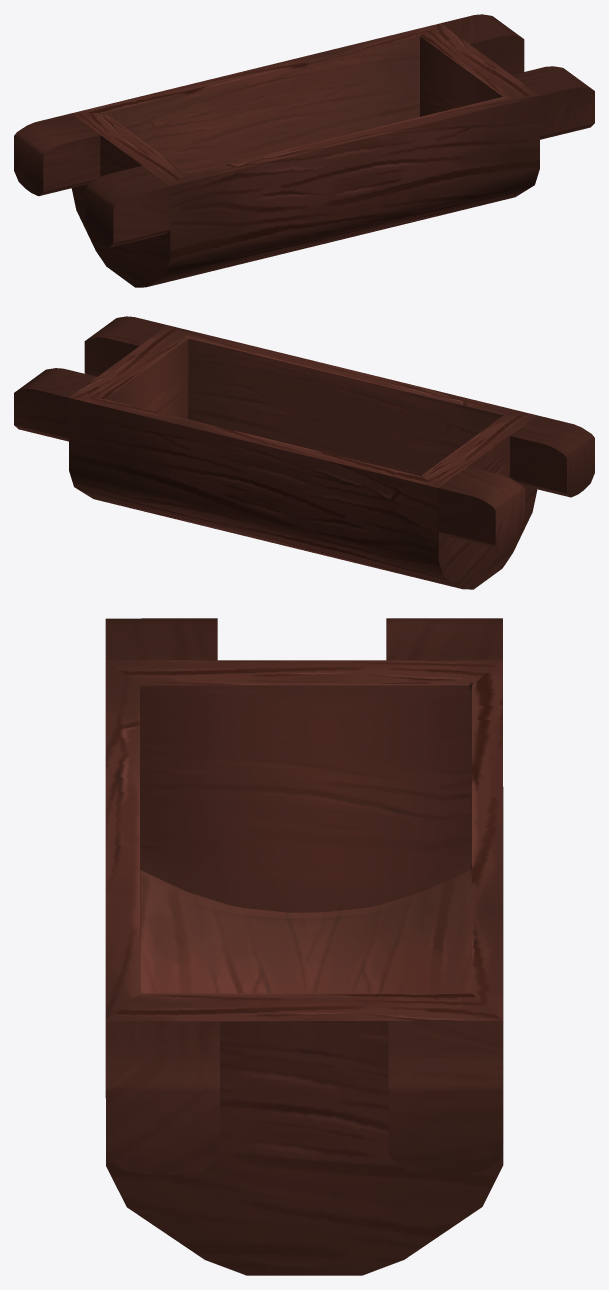
File: feed barrel.FBX
3 renders of one model, top to bottom at view 1: azimuth 30°, elevation 25°; view 2: azimuth 150°, elevation 25°; view 3: azimuth 270°, elevation 25°, orthographic. The views are drawn at different scales.
Visible parts, largest first — view 1: Cylinder001; view 2: Cylinder001; view 3: Cylinder001.
Boxes of the visible parts, bbox=[...] form: Cylinder001: bbox=[14, 14, 594, 287]; Cylinder001: bbox=[14, 316, 594, 589]; Cylinder001: bbox=[105, 618, 503, 1275].
Bounding box in the file's own units: 113 × 28.49 × 40.27.
Materials: 1 (1 with a texture image).
